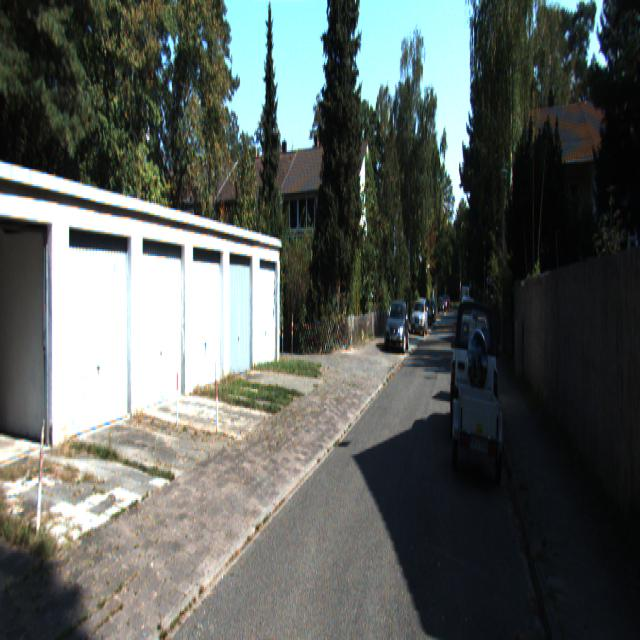Car: (450, 296, 498, 448), (458, 379, 502, 485), (386, 300, 411, 352), (411, 298, 428, 335)
